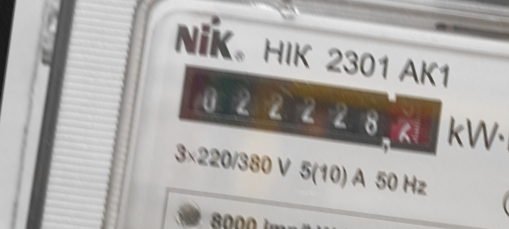0: (199, 84, 218, 114)
2: (232, 86, 254, 118), (330, 100, 351, 131), (297, 95, 318, 124), (265, 91, 285, 121)
5: (399, 97, 417, 119)
6: (395, 120, 414, 143)
8: (361, 107, 380, 137)
screen: (168, 53, 453, 165)
